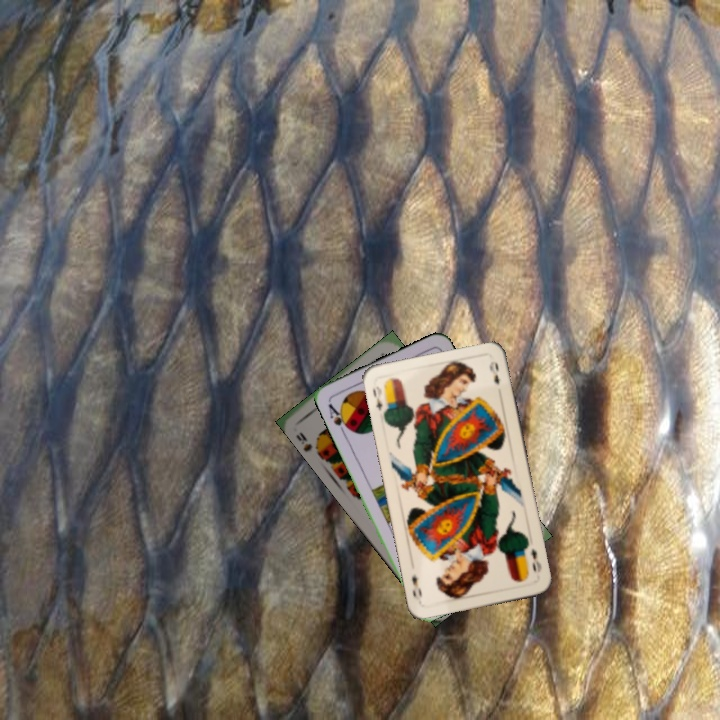EO: (369, 382, 391, 418), (526, 544, 544, 575)
S9: (292, 428, 325, 458)
SA: (324, 400, 353, 436)
